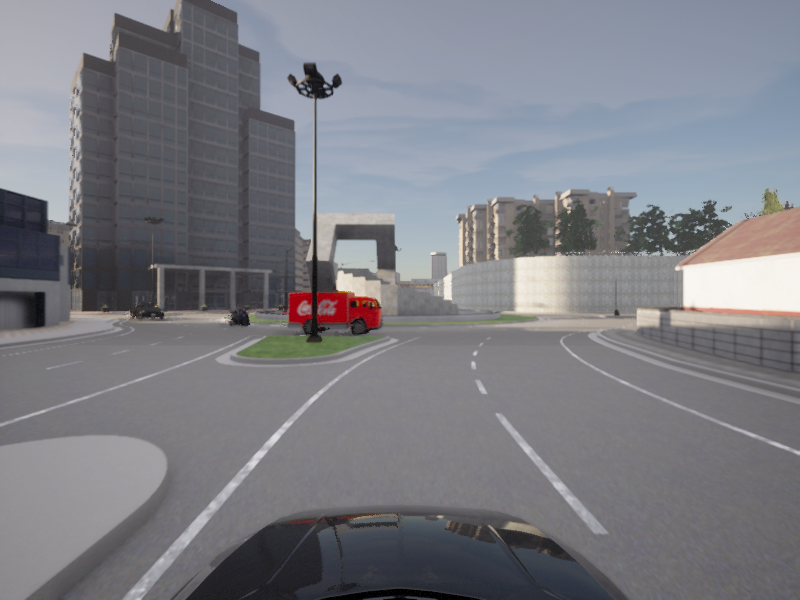vehicle: (286, 291, 384, 336), (129, 302, 166, 320), (224, 306, 254, 328)
